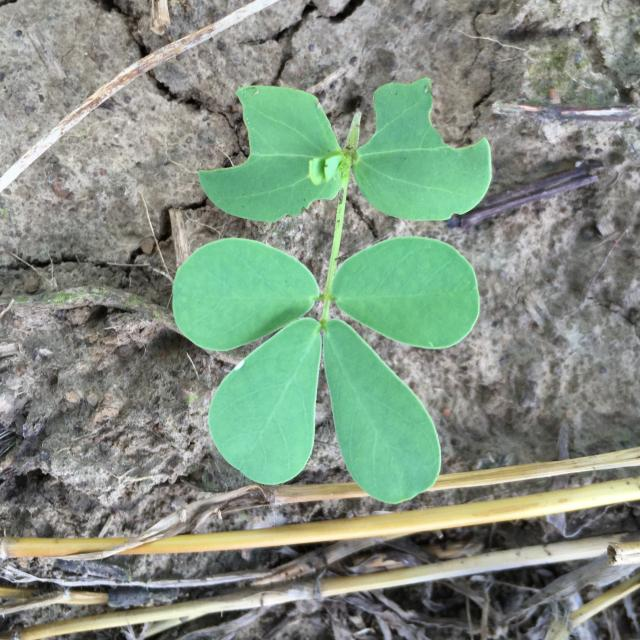Sicklepod: (172, 78, 492, 504)
